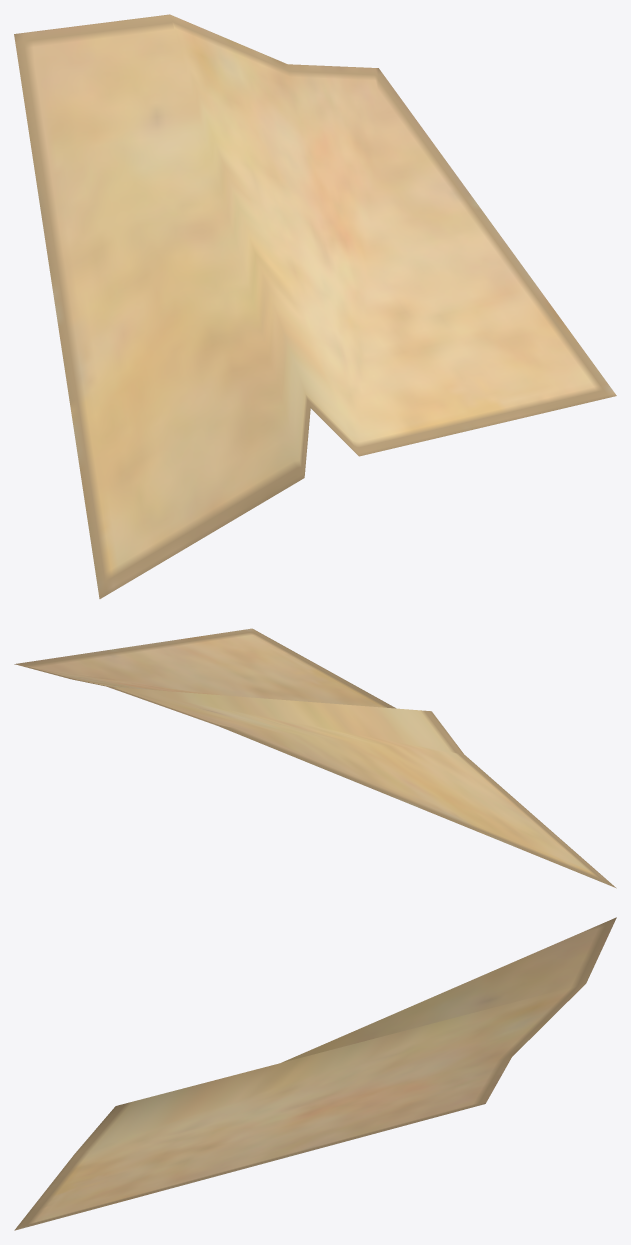
Rendered from wz_shuye_06.FBX.
3 renders of one model, top to bottom at view 1: azimuth 30°, elevation 25°; view 2: azimuth 150°, elevation 25°; view 3: azimuth 270°, elevation 25°, orthographic. The views are drawn at different scales.
Parts seen in each view (by area): view 1: shuye_06; view 2: shuye_06; view 3: shuye_06.
Part boxes in pixels (left/top/right/bottom): shuye_06: left=14, top=14, right=616, bottom=598; shuye_06: left=14, top=628, right=616, bottom=888; shuye_06: left=14, top=917, right=616, bottom=1230.
Size of the model in its own units: 0.9752 by 0.6487 by 1.15.
